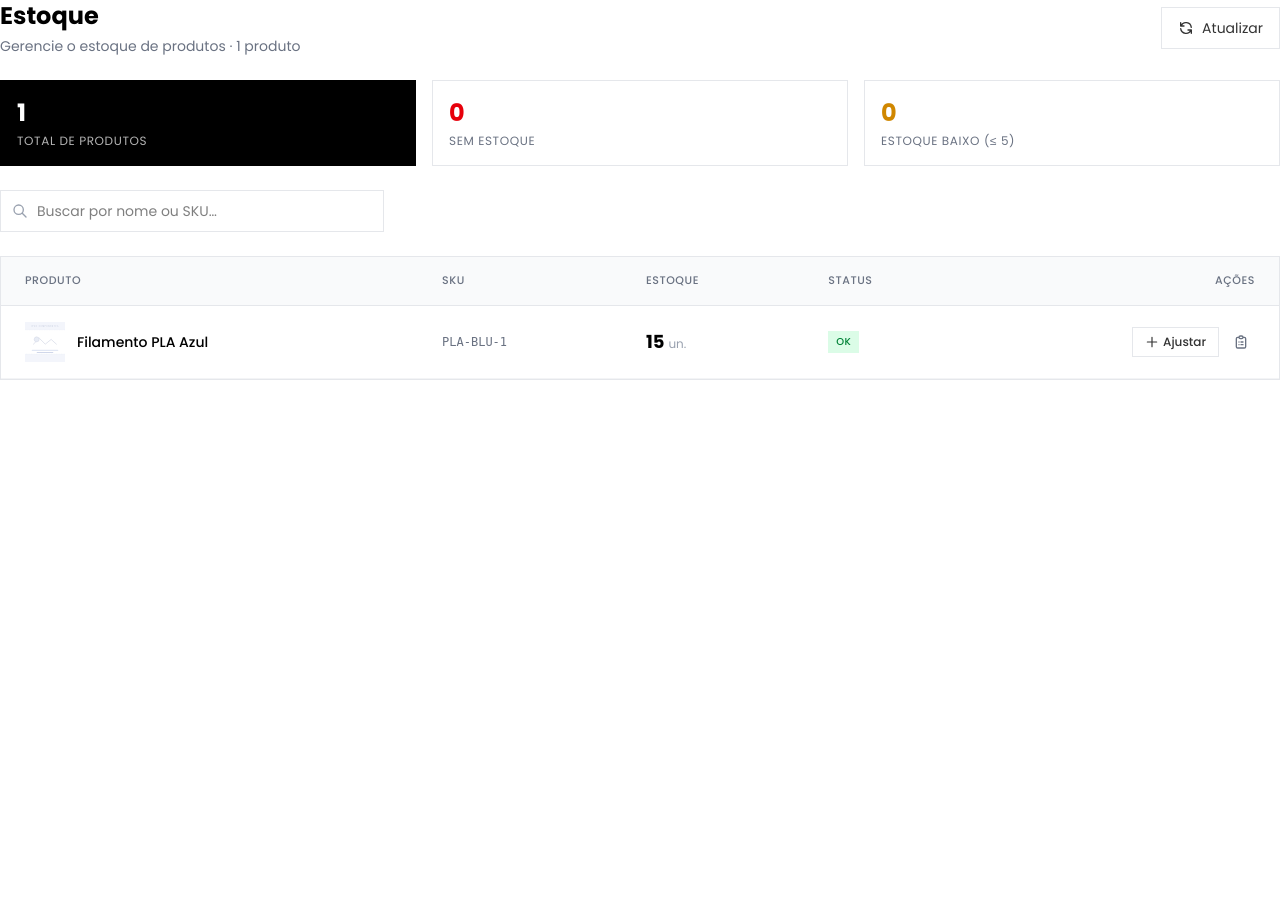
Test: Painel de Estoque Administrativo (UI) › deve exibir erro vindo do backend amigavelmente na interface
Click the button titled "Ajustar estoque" at {"x": 1176, "y": 342}, box x1=1132 y1=327 x2=1219 y2=357
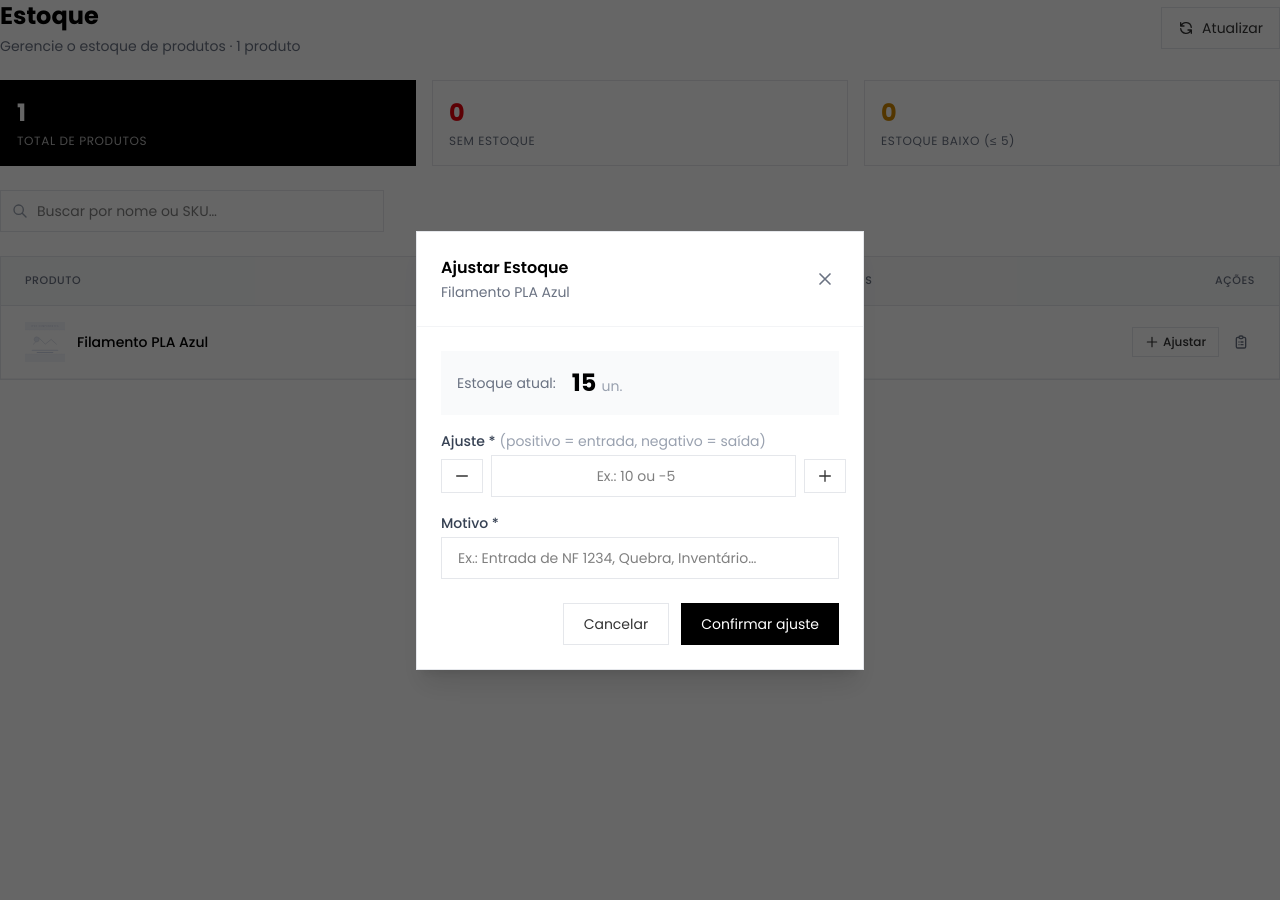
Type "-20" into the number field with placeholder "Ex.: 10 ou -5" at {"x": 644, "y": 476}, box x1=491 y1=454 x2=796 y2=496
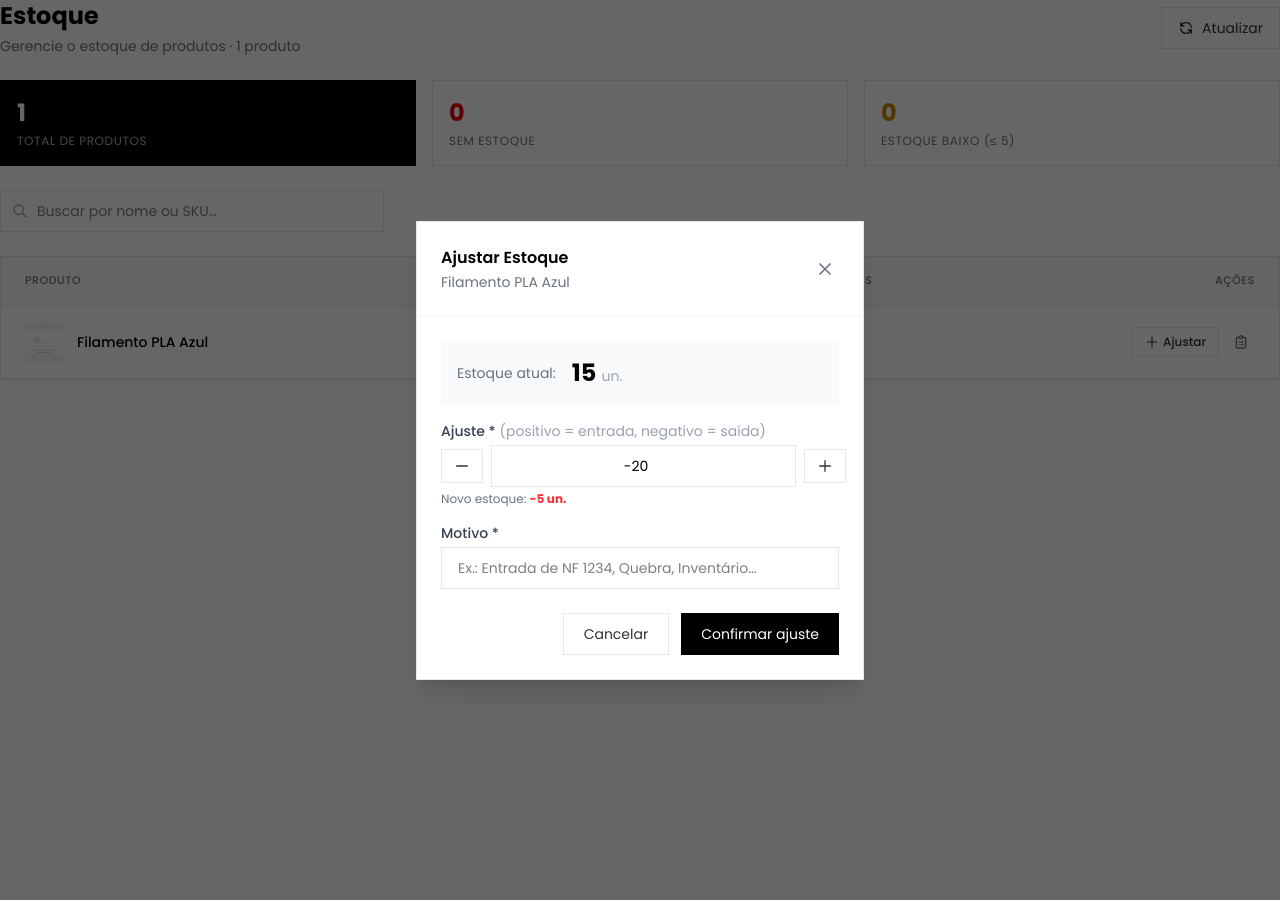
Type "Saída" into the field with placeholder "Ex.: Entrada de NF 1234, Quebra, Inventário…" at {"x": 640, "y": 568}, box x1=441 y1=546 x2=839 y2=588
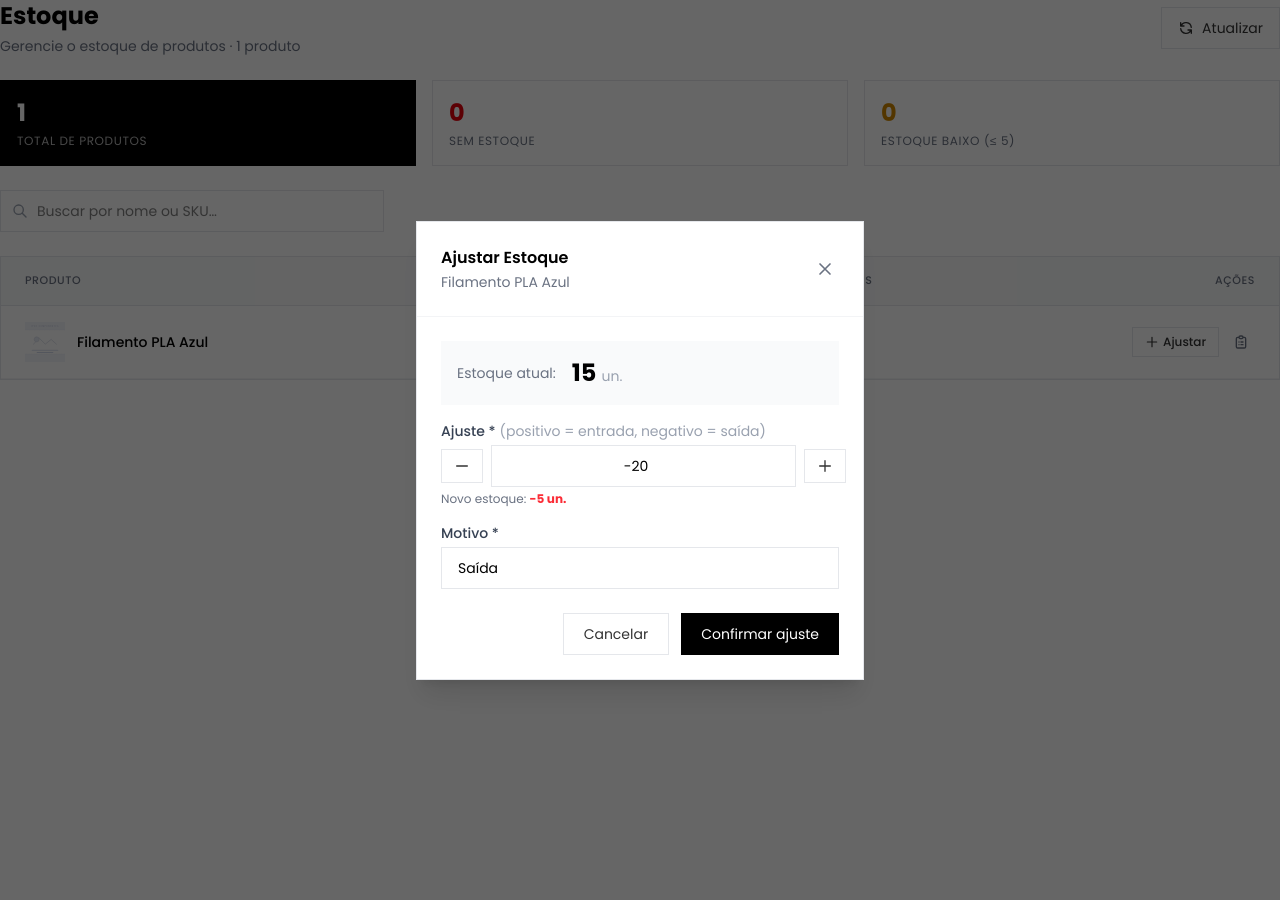
Click the button "Confirmar ajuste" at {"x": 760, "y": 634}, box x1=681 y1=612 x2=839 y2=654
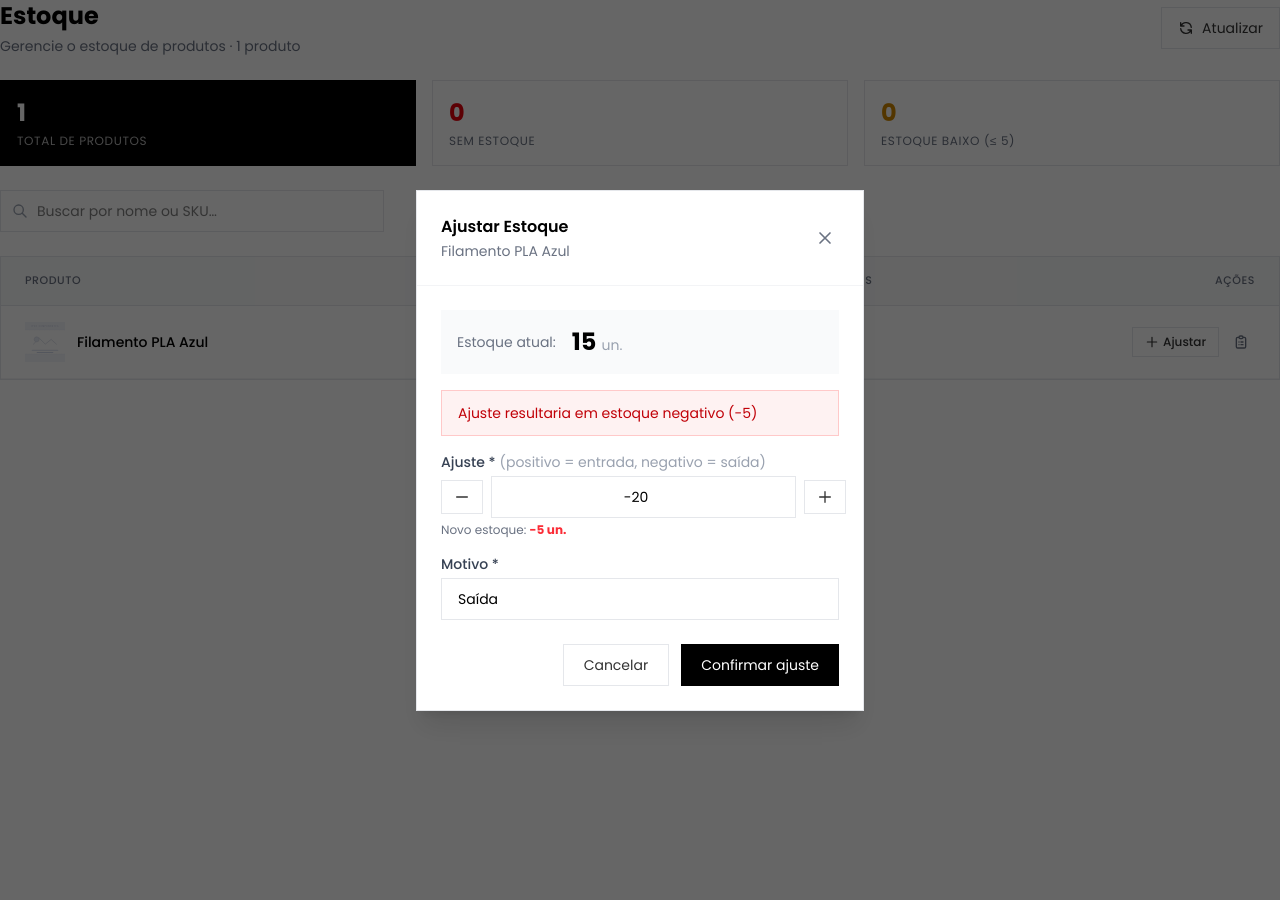
Now the text "Ajuste resultaria em estoque negativo (-5)" is shown, box x1=441 y1=390 x2=839 y2=436
